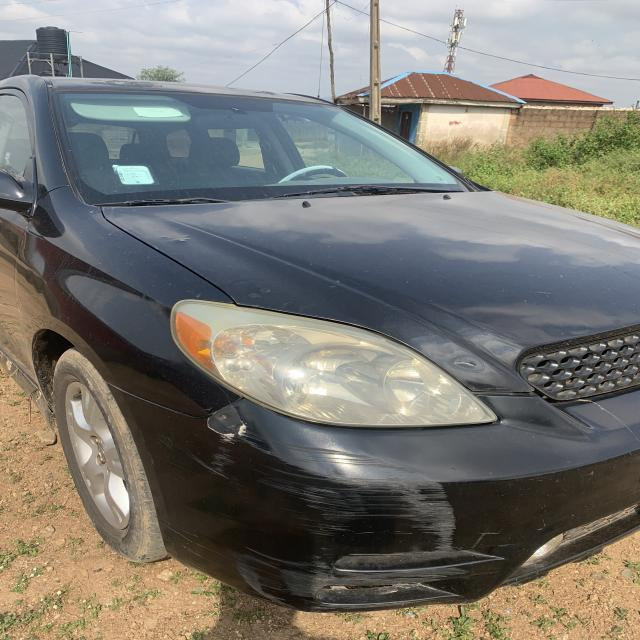bonnet-dent: (151, 226, 212, 252), (88, 76, 174, 90)
front-bumper-scratch: (265, 452, 486, 608)
paint-chip: (195, 402, 253, 444)
